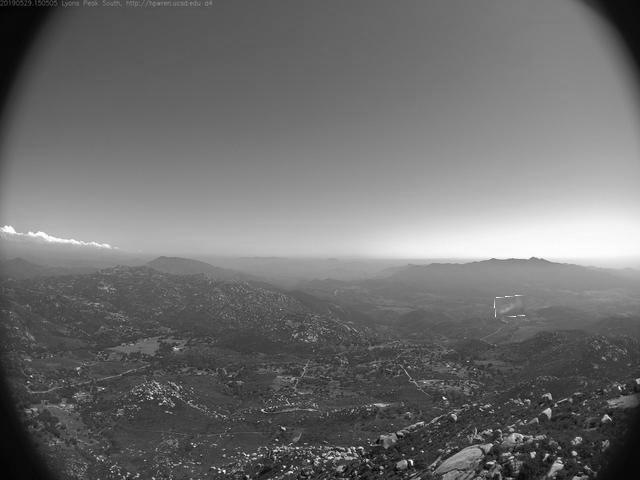smoke: (496, 297, 527, 319)
